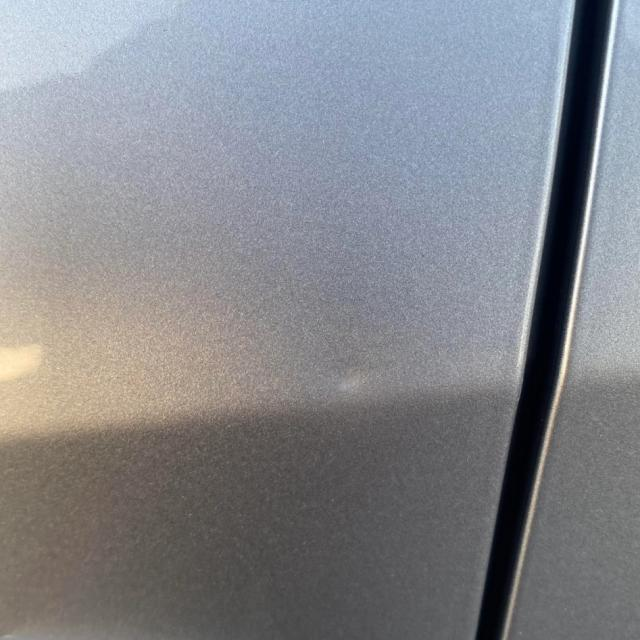dents: (305, 332, 441, 432)
